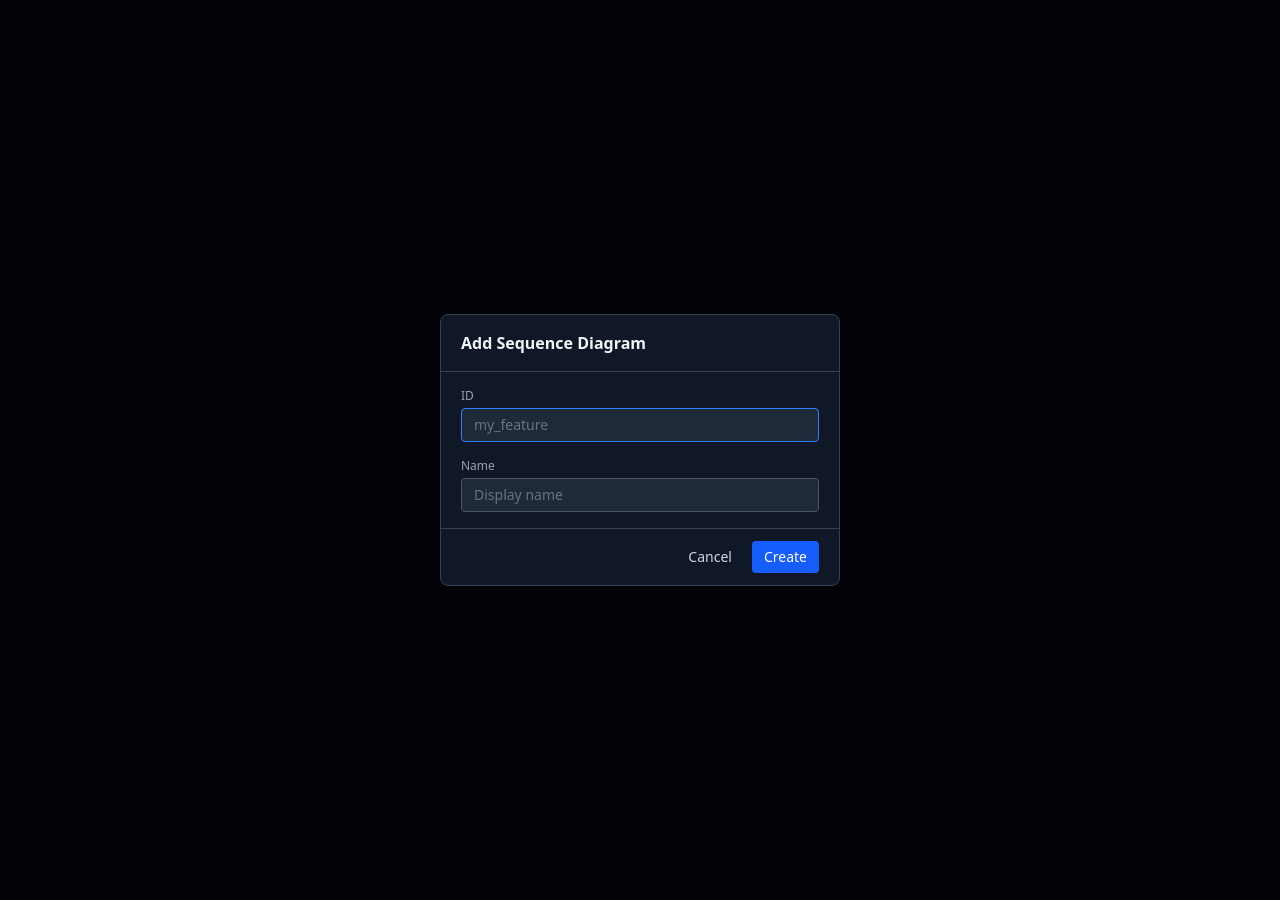
Test: CreateNodeDialog › shows ID required error when submitting empty id
Click the button "Create" at (785,557), box [752,541,819,573]
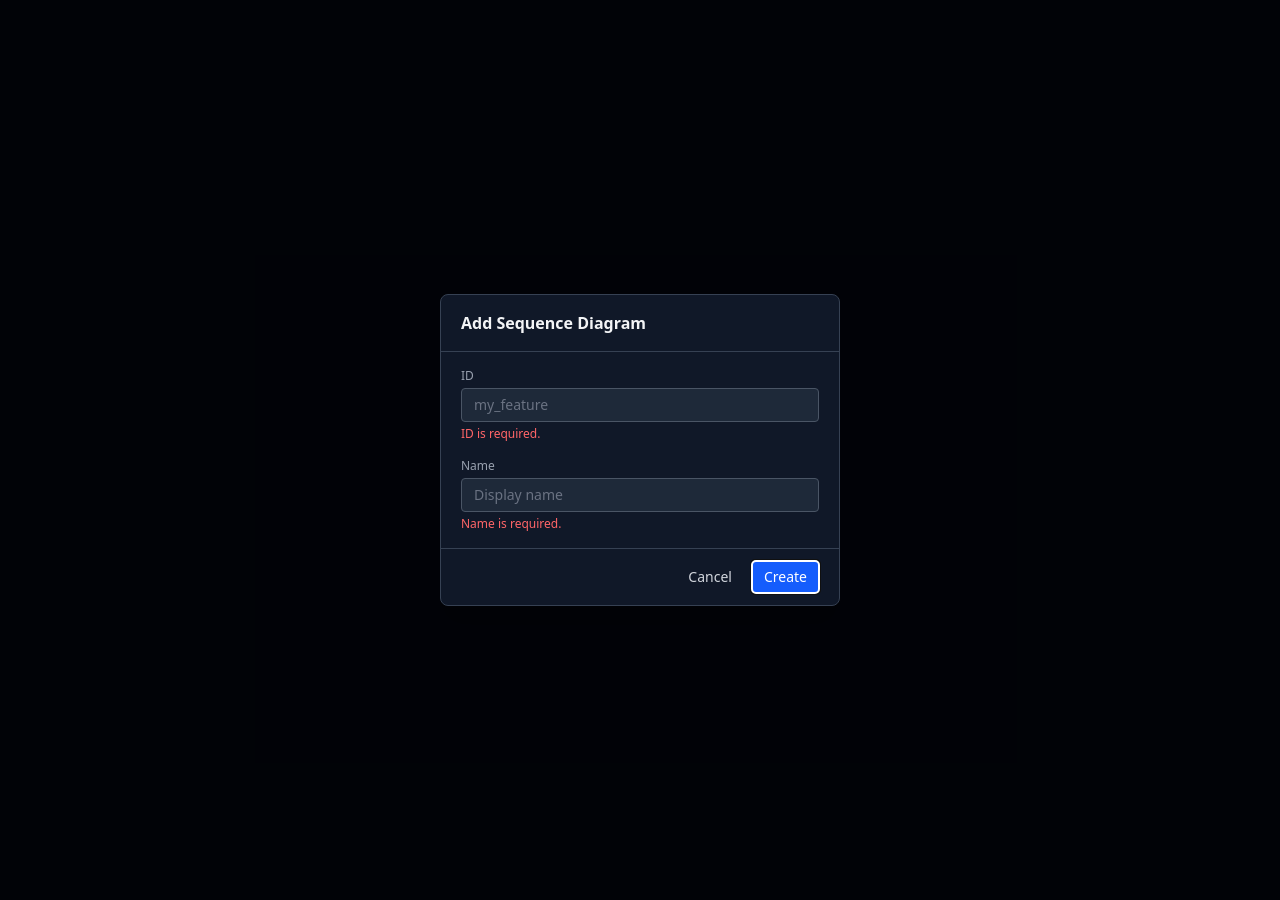
Check: the text "ID is required." is shown, box [461,425,540,442]
